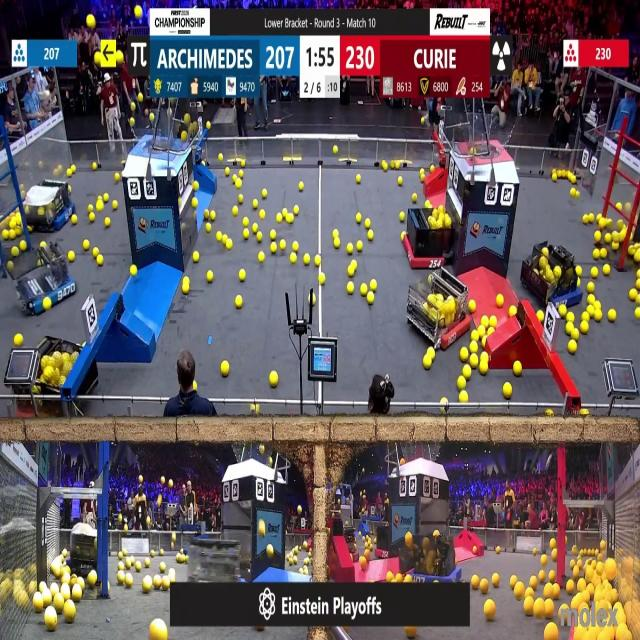ball_airborne: (88, 14, 96, 27), (115, 52, 123, 65), (95, 54, 102, 66), (135, 6, 142, 16), (138, 94, 144, 104), (184, 113, 189, 123), (184, 132, 189, 142), (130, 117, 136, 125), (259, 447, 264, 456), (169, 481, 174, 488), (132, 103, 136, 111), (162, 478, 166, 486), (150, 115, 154, 122)
ball_ground: (150, 621, 167, 640), (44, 612, 56, 632), (65, 602, 76, 622), (485, 601, 496, 620), (543, 624, 556, 640), (543, 600, 553, 618), (533, 600, 543, 617), (514, 584, 524, 600), (407, 625, 418, 639), (34, 597, 44, 612), (514, 360, 523, 376), (270, 372, 279, 388), (72, 588, 82, 602), (142, 580, 152, 594), (502, 383, 511, 398), (524, 599, 532, 615), (566, 582, 575, 596), (125, 574, 134, 587), (460, 348, 468, 362), (543, 586, 551, 600), (481, 580, 489, 594), (468, 354, 477, 366), (568, 341, 576, 354), (236, 295, 244, 308), (492, 573, 500, 586), (90, 571, 98, 584), (553, 586, 561, 599), (576, 579, 584, 592), (221, 361, 228, 375), (268, 544, 275, 558), (14, 335, 22, 347), (496, 294, 504, 306), (608, 310, 616, 322), (368, 280, 376, 292), (424, 356, 432, 368), (458, 378, 466, 390), (68, 250, 76, 262), (463, 364, 471, 376), (582, 321, 590, 333), (630, 288, 638, 300), (470, 576, 478, 588), (43, 299, 50, 312), (566, 325, 573, 338), (602, 266, 610, 277), (460, 391, 468, 402), (481, 362, 489, 373), (64, 590, 72, 601), (490, 316, 497, 328), (131, 266, 138, 278), (366, 292, 373, 304), (530, 575, 537, 587), (468, 302, 475, 314), (595, 232, 602, 244), (386, 570, 394, 580), (588, 293, 596, 303), (469, 343, 477, 353), (583, 312, 591, 322), (628, 246, 636, 256), (595, 311, 602, 322), (239, 271, 246, 282), (588, 282, 595, 293), (318, 274, 325, 285), (360, 284, 367, 295), (538, 570, 545, 581), (559, 307, 566, 318), (550, 570, 557, 581), (592, 268, 598, 280), (348, 282, 354, 294), (356, 238, 362, 250), (154, 575, 160, 587), (117, 572, 123, 584), (526, 588, 534, 597), (82, 241, 89, 251), (291, 242, 298, 252), (243, 217, 250, 227), (348, 268, 355, 278), (359, 558, 366, 568), (427, 348, 434, 358), (470, 332, 477, 342), (480, 326, 487, 336), (163, 580, 170, 590), (2, 232, 9, 242), (97, 202, 104, 212), (539, 556, 546, 566), (364, 218, 371, 228), (572, 328, 579, 338), (126, 559, 133, 569), (207, 272, 213, 283), (192, 251, 198, 262), (348, 243, 354, 254), (575, 267, 581, 278), (272, 243, 278, 254), (552, 551, 558, 562), (604, 233, 610, 244), (405, 574, 413, 582), (243, 231, 250, 240), (286, 214, 293, 223), (482, 316, 489, 325), (566, 313, 573, 322), (11, 247, 18, 256), (481, 352, 488, 361), (316, 255, 322, 265), (290, 252, 296, 262), (258, 252, 264, 262), (226, 240, 232, 250), (594, 249, 600, 259), (98, 255, 104, 265), (280, 241, 286, 251), (182, 284, 188, 294), (256, 233, 262, 243), (511, 307, 517, 317), (19, 242, 25, 252), (537, 312, 543, 322), (6, 263, 12, 273), (216, 233, 222, 243), (252, 200, 258, 210), (600, 248, 606, 258), (161, 563, 167, 573), (206, 222, 212, 232), (512, 575, 518, 585), (263, 188, 269, 198), (204, 210, 210, 220), (572, 567, 578, 577), (551, 538, 557, 548), (93, 248, 100, 256), (588, 306, 595, 314), (331, 231, 338, 239), (589, 214, 596, 222), (635, 251, 640, 262), (356, 214, 362, 223), (270, 232, 276, 241), (114, 173, 120, 182), (252, 222, 258, 231), (236, 179, 242, 188), (210, 211, 216, 220), (136, 563, 142, 572), (67, 169, 73, 178), (570, 175, 576, 184), (282, 208, 288, 217), (595, 301, 601, 310), (396, 572, 402, 581), (611, 242, 617, 251), (9, 231, 15, 240), (305, 254, 310, 264), (105, 217, 110, 227), (191, 199, 196, 209), (399, 212, 404, 222), (482, 338, 487, 348), (171, 574, 176, 584), (277, 214, 283, 222), (335, 240, 341, 248), (182, 278, 188, 286), (93, 164, 99, 172), (570, 188, 576, 196), (238, 194, 244, 202), (192, 182, 198, 190), (293, 207, 299, 215), (397, 177, 403, 185), (382, 164, 388, 172), (442, 396, 448, 404), (176, 556, 182, 564), (221, 235, 227, 243), (331, 146, 337, 154), (579, 410, 585, 418), (91, 213, 96, 222), (367, 232, 372, 241), (259, 210, 264, 219), (413, 192, 418, 201), (72, 215, 77, 224), (112, 201, 117, 210), (582, 215, 587, 224), (172, 532, 177, 541), (636, 308, 640, 319), (420, 175, 426, 182), (40, 242, 46, 249), (430, 166, 436, 173), (250, 403, 256, 410), (356, 175, 361, 183), (298, 182, 303, 190), (145, 560, 150, 568), (395, 162, 400, 170), (532, 546, 537, 554), (254, 406, 259, 414), (234, 207, 238, 216), (636, 280, 640, 289), (192, 383, 196, 392), (120, 553, 124, 562), (553, 175, 558, 182), (90, 205, 95, 212), (120, 562, 125, 569), (575, 279, 580, 286), (98, 194, 103, 201), (104, 193, 108, 201), (224, 168, 228, 176), (218, 153, 222, 161), (488, 326, 492, 334), (234, 176, 238, 184), (312, 295, 316, 303), (570, 560, 574, 568), (241, 162, 246, 168), (425, 201, 429, 208), (29, 225, 33, 232), (240, 171, 244, 178), (306, 559, 310, 566), (161, 550, 165, 557), (305, 568, 309, 575), (496, 545, 500, 552), (636, 272, 640, 279), (400, 234, 403, 242), (298, 568, 302, 574), (151, 552, 155, 558), (536, 550, 539, 557)
goal: (460, 116, 518, 158), (129, 117, 184, 152)
robot_blue: (522, 244, 584, 311), (21, 244, 78, 310), (408, 534, 461, 585), (24, 180, 74, 234), (69, 531, 98, 576)
robot_red: (4, 334, 92, 416), (406, 276, 469, 350), (404, 206, 453, 271)
